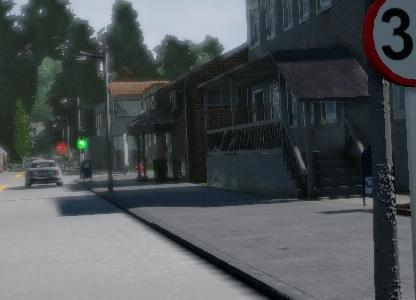Speed_30: (358, 0, 416, 93)
